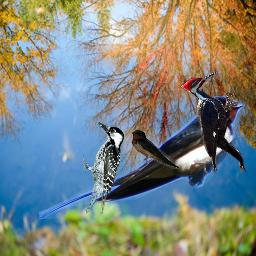Swallow: (37, 96, 245, 219), (130, 129, 180, 169)
Woodpecker: (180, 71, 246, 174), (83, 121, 124, 214)
